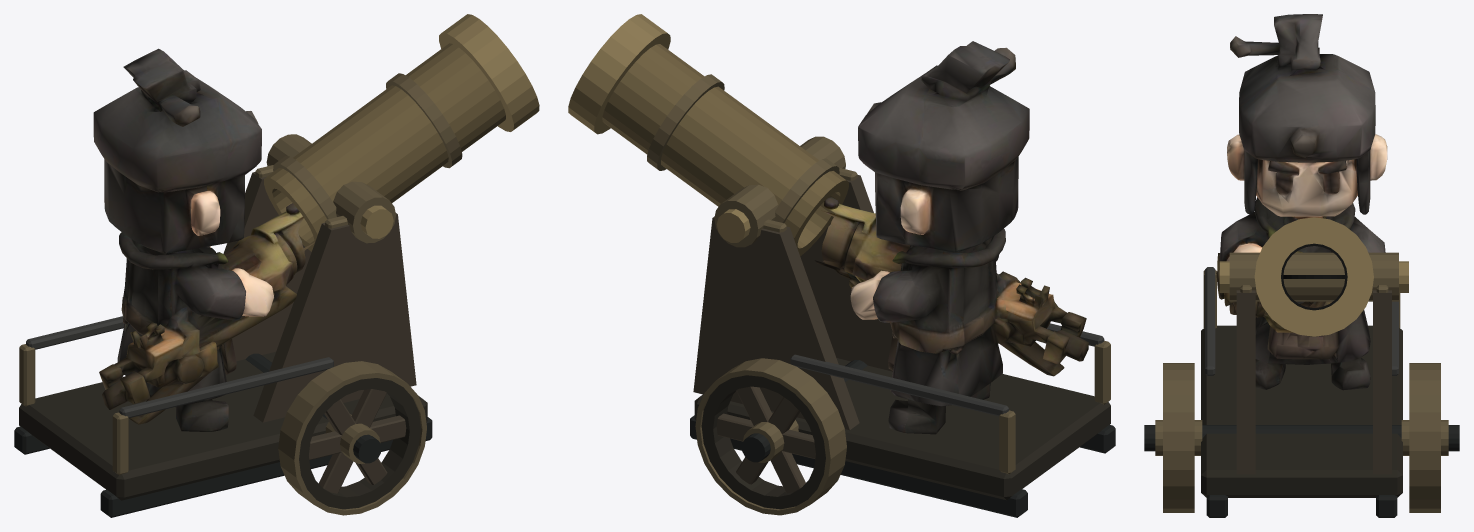
The model's file is cannon.glb.
3 views of the same model, side by side, from view 1: azimuth 30°, elevation 25°; view 2: azimuth 150°, elevation 25°; view 3: azimuth 270°, elevation 25° (orthographic). The views are drawn at different scales.
Parts seen in each view (by area): view 1: cannon-readable-standard; view 2: cannon-readable-standard; view 3: cannon-readable-standard.
Boxes of the visible parts, x1,y1,x2,y2 form: cannon-readable-standard: (14, 14, 539, 517); cannon-readable-standard: (568, 14, 1115, 517); cannon-readable-standard: (1144, 14, 1459, 517).
Bounding box in the file's own units: 1.13 × 1 × 0.67.
1 material, 1 textured.
